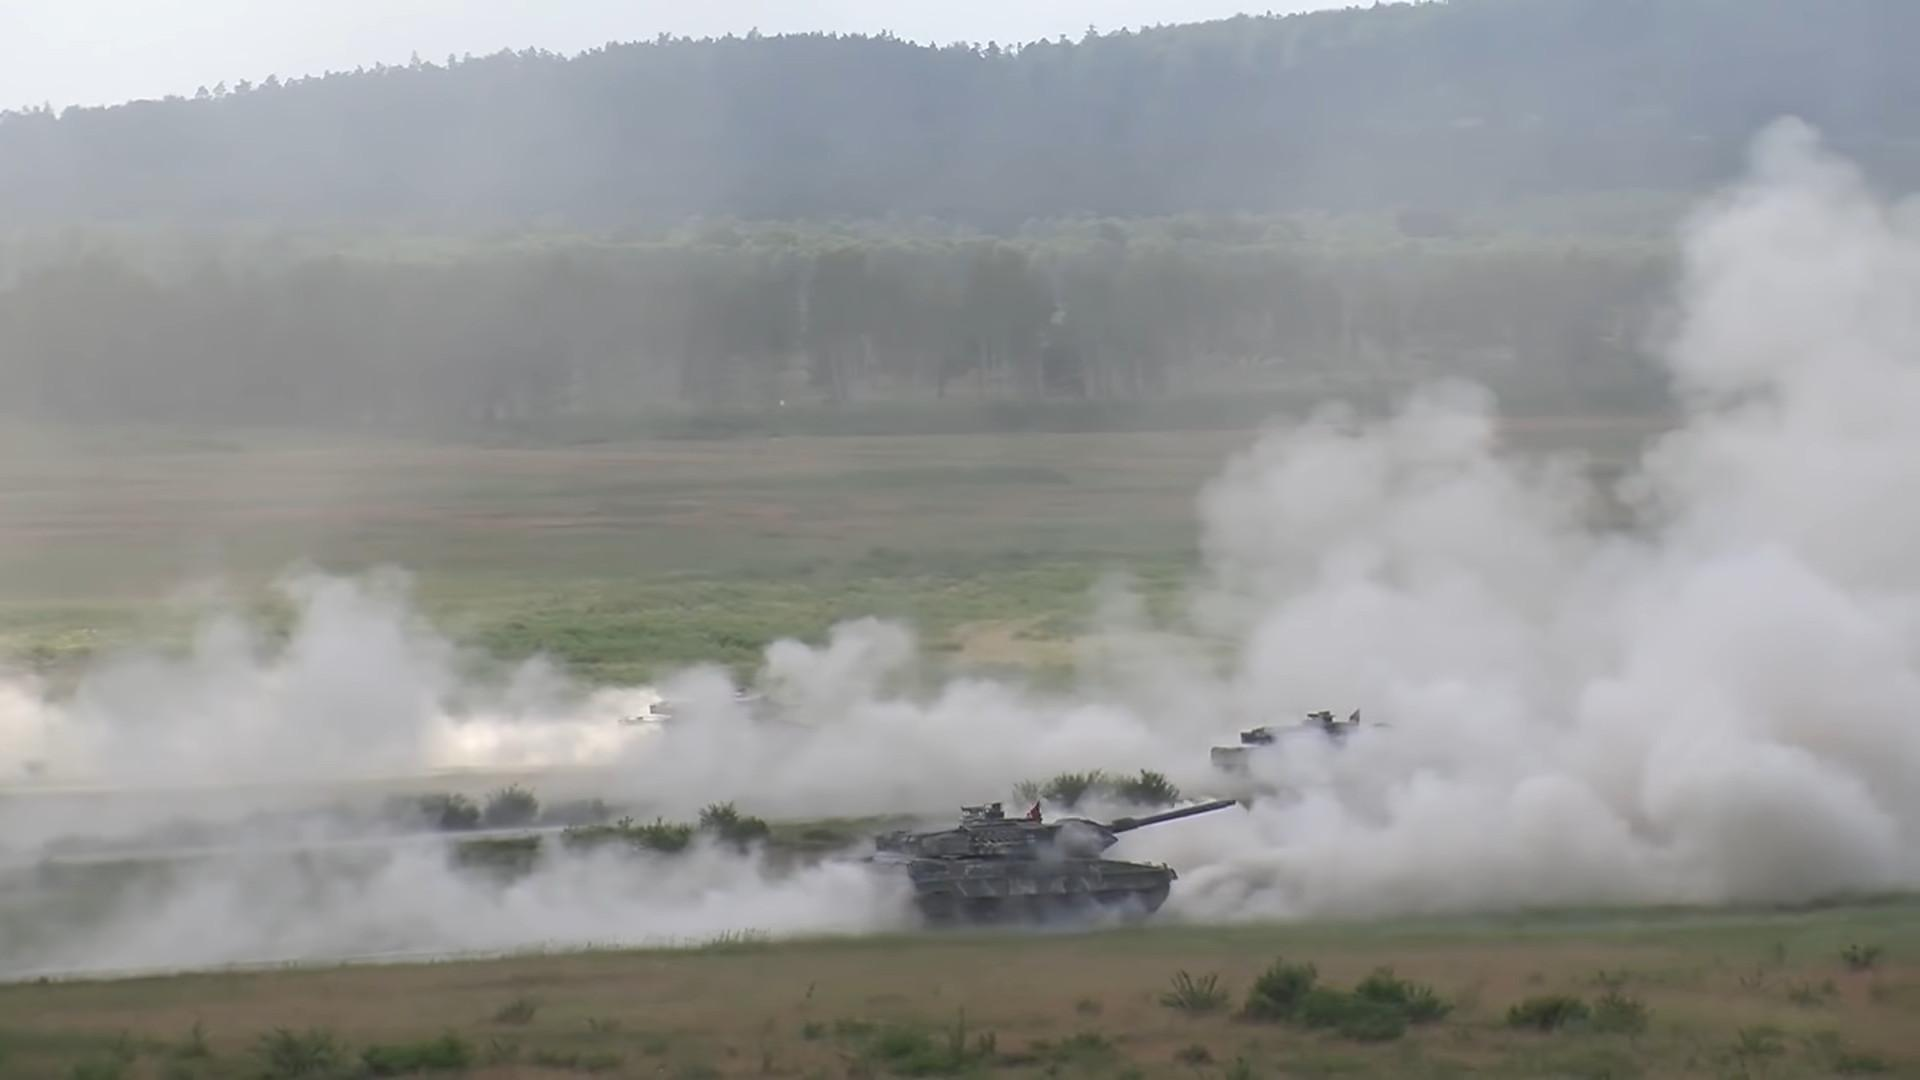tank: (878, 800, 1232, 928), (1209, 711, 1396, 768), (621, 696, 800, 722)
